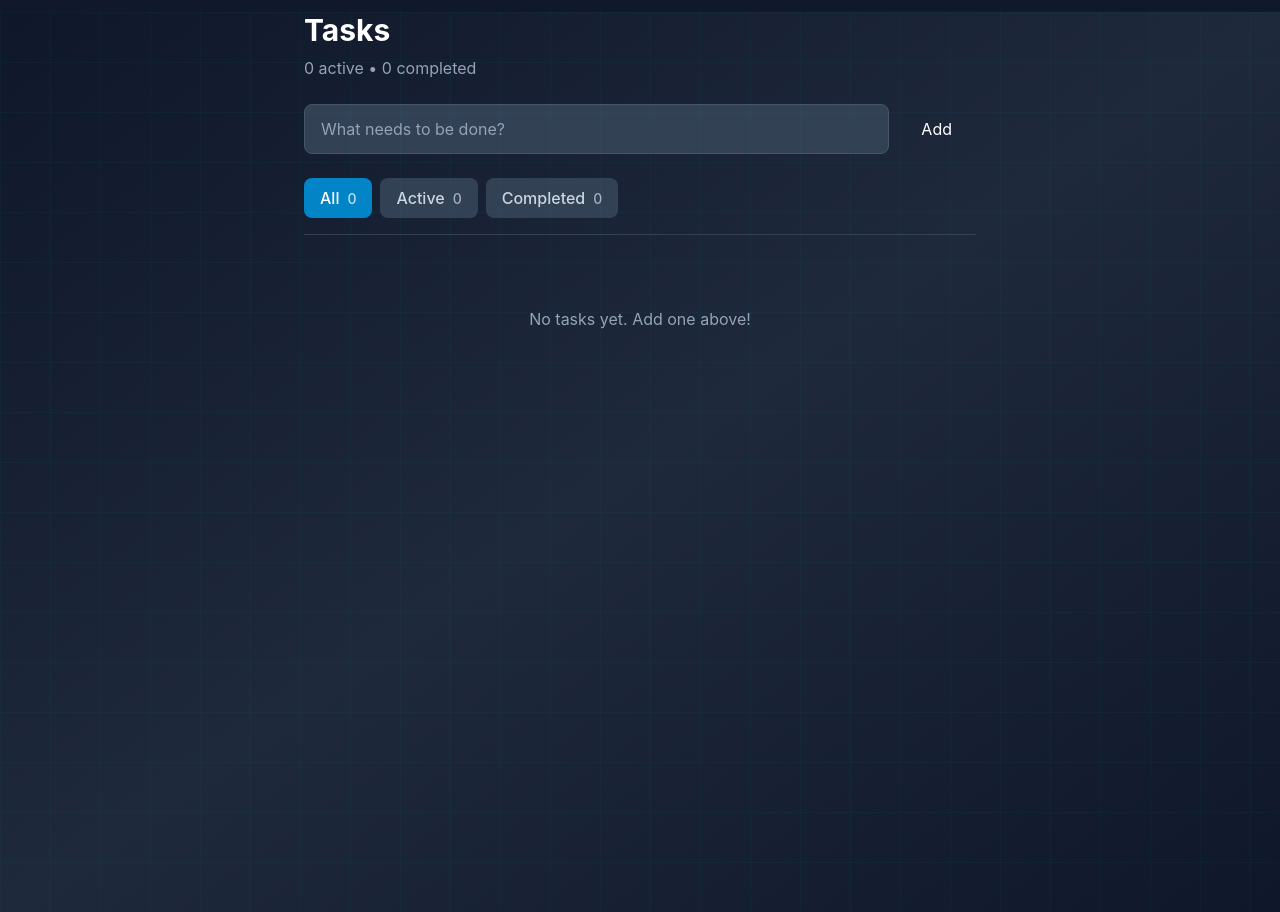
Scenario: TodoList › filters todos
Type "Active task" into the field with placeholder "What needs to be done?".
click(597, 129); type("Active task")  # box x1=304 y1=104 x2=889 y2=154
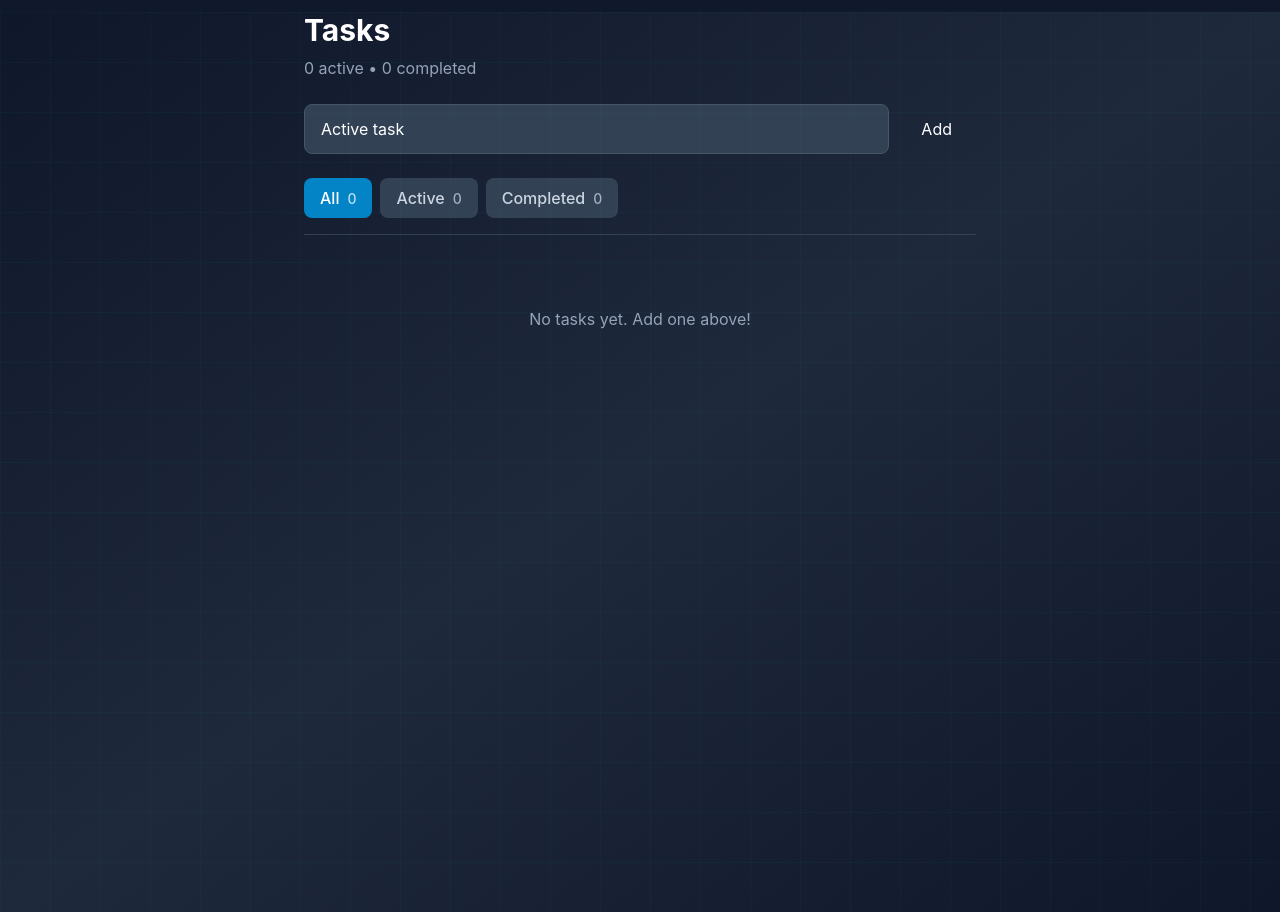
Click the button "Add".
click(937, 129)  # box x1=897 y1=104 x2=976 y2=154
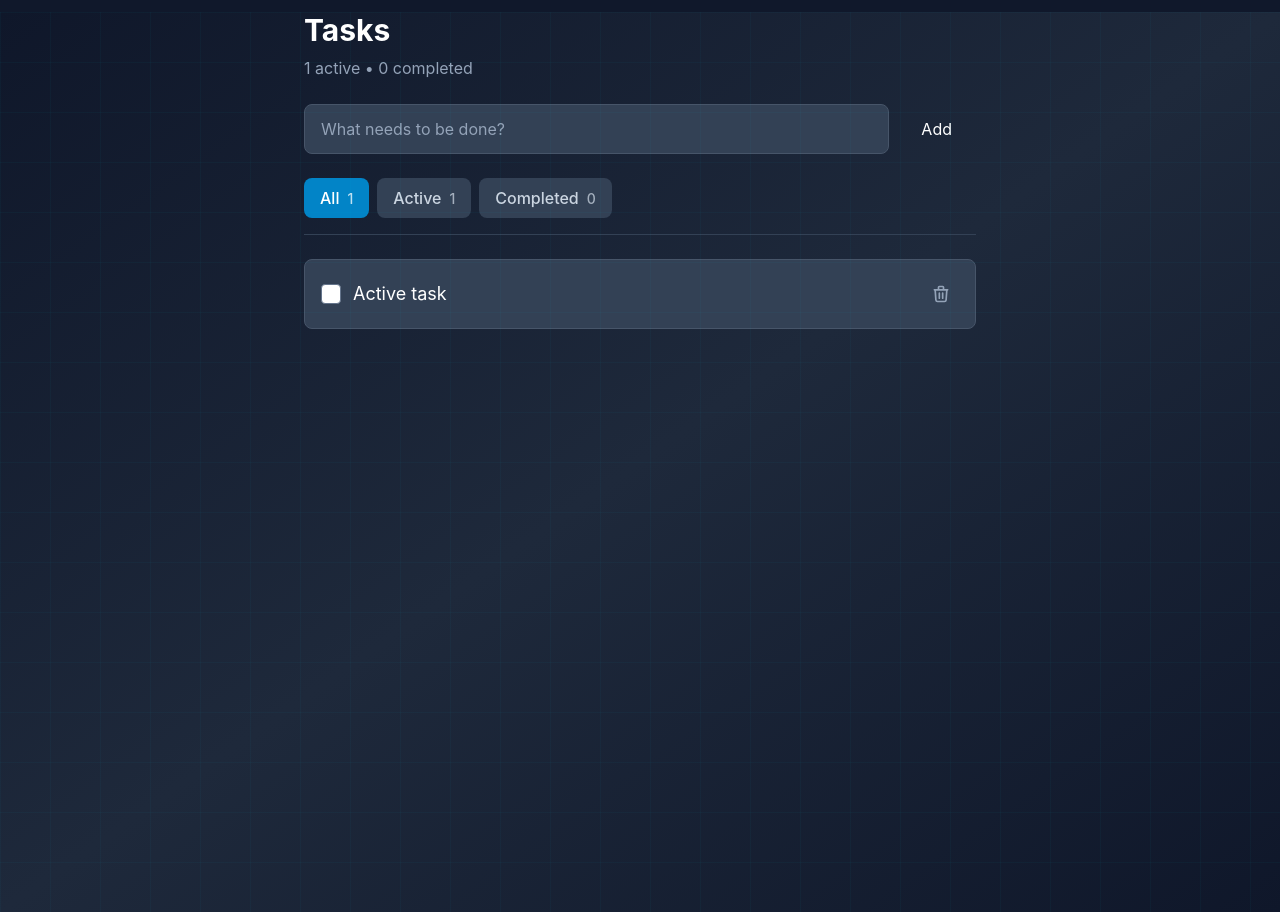
Type "Completed task" into the field with placeholder "What needs to be done?".
click(597, 129); type("Completed task")  # box x1=304 y1=104 x2=889 y2=154
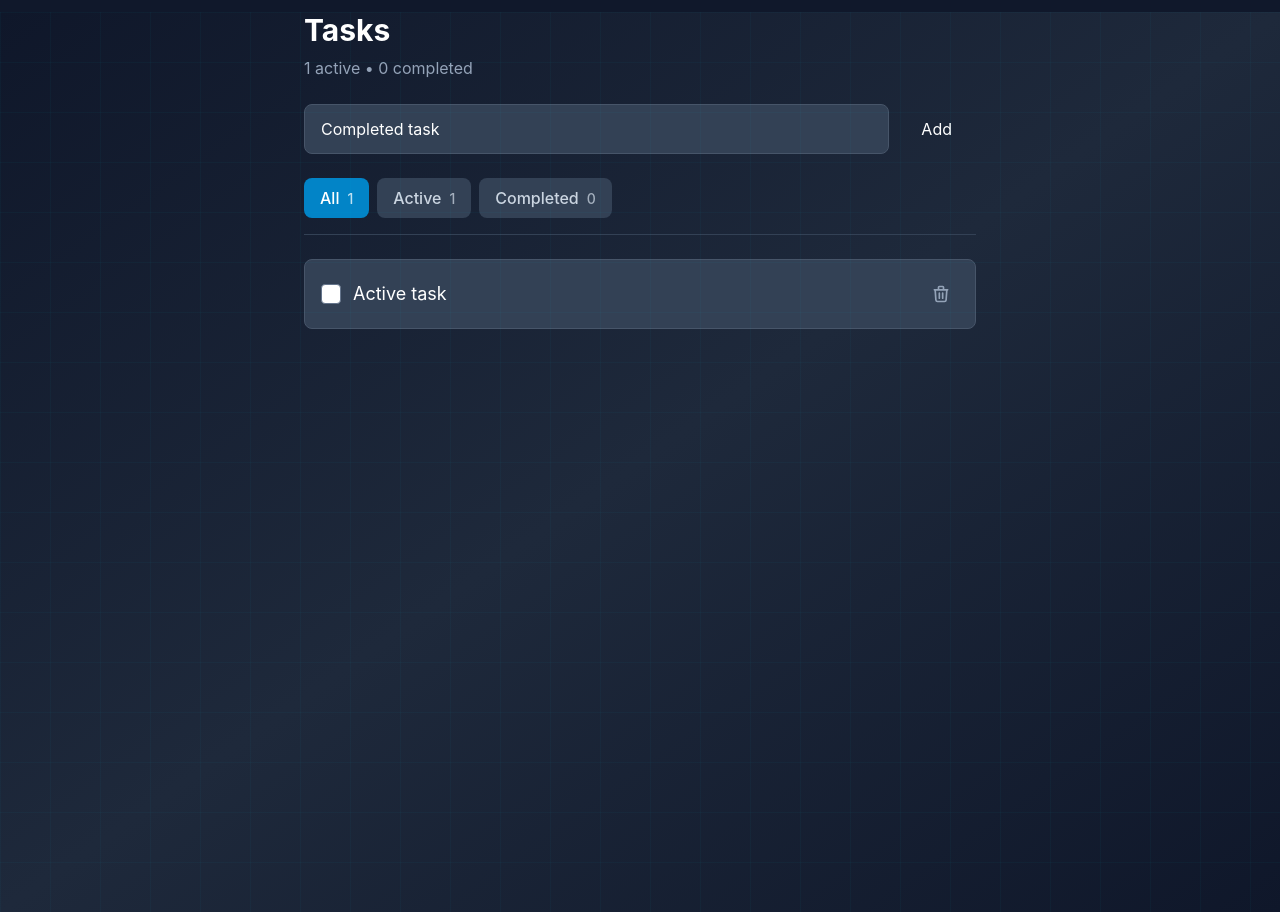
Click the button "Add".
click(937, 129)  # box x1=897 y1=104 x2=976 y2=154
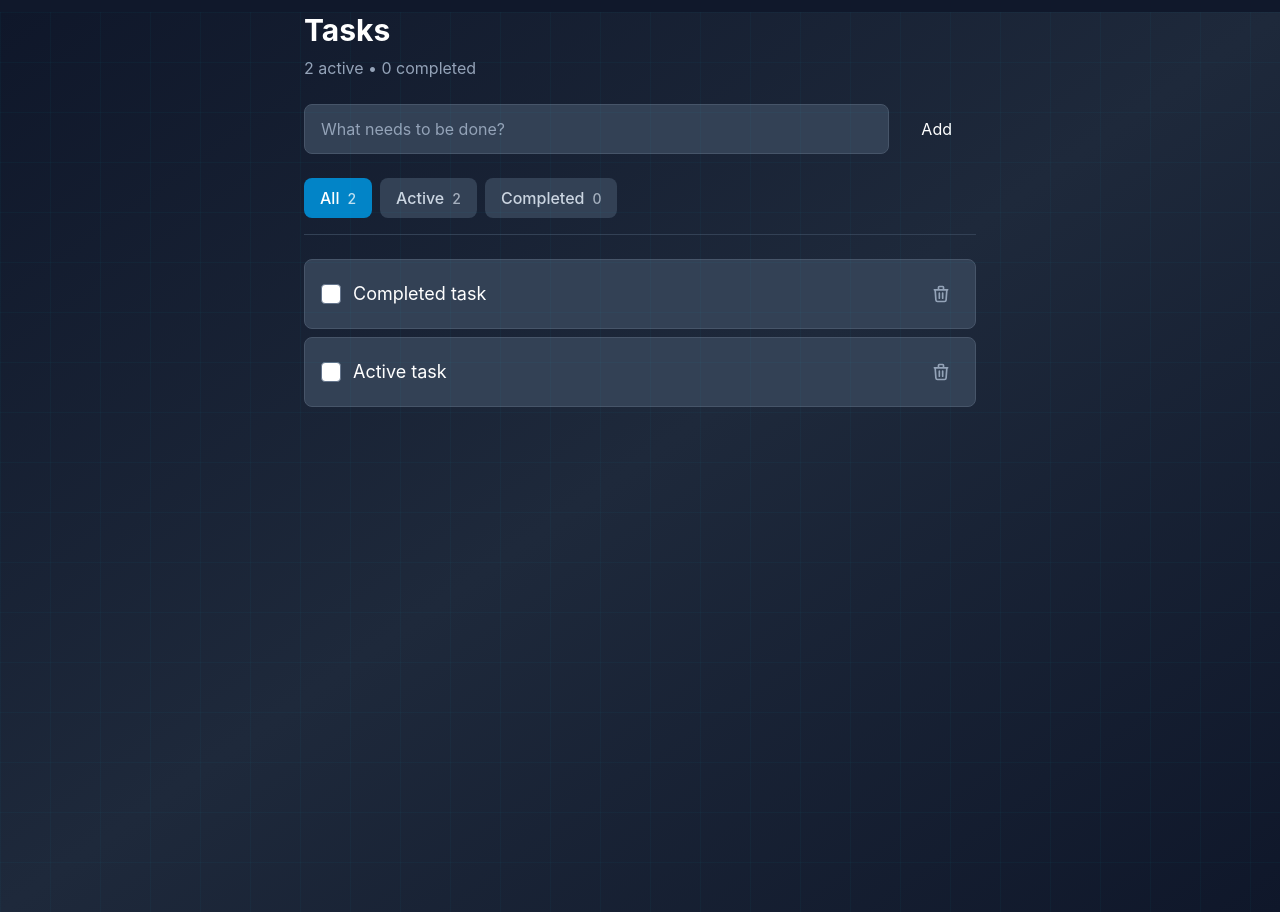
Complete the second one (index 0 since they're added to the beginning)
Click the checkbox named "Mark \"Completed task\" as complete".
click(331, 294)  # box x1=321 y1=284 x2=341 y2=304
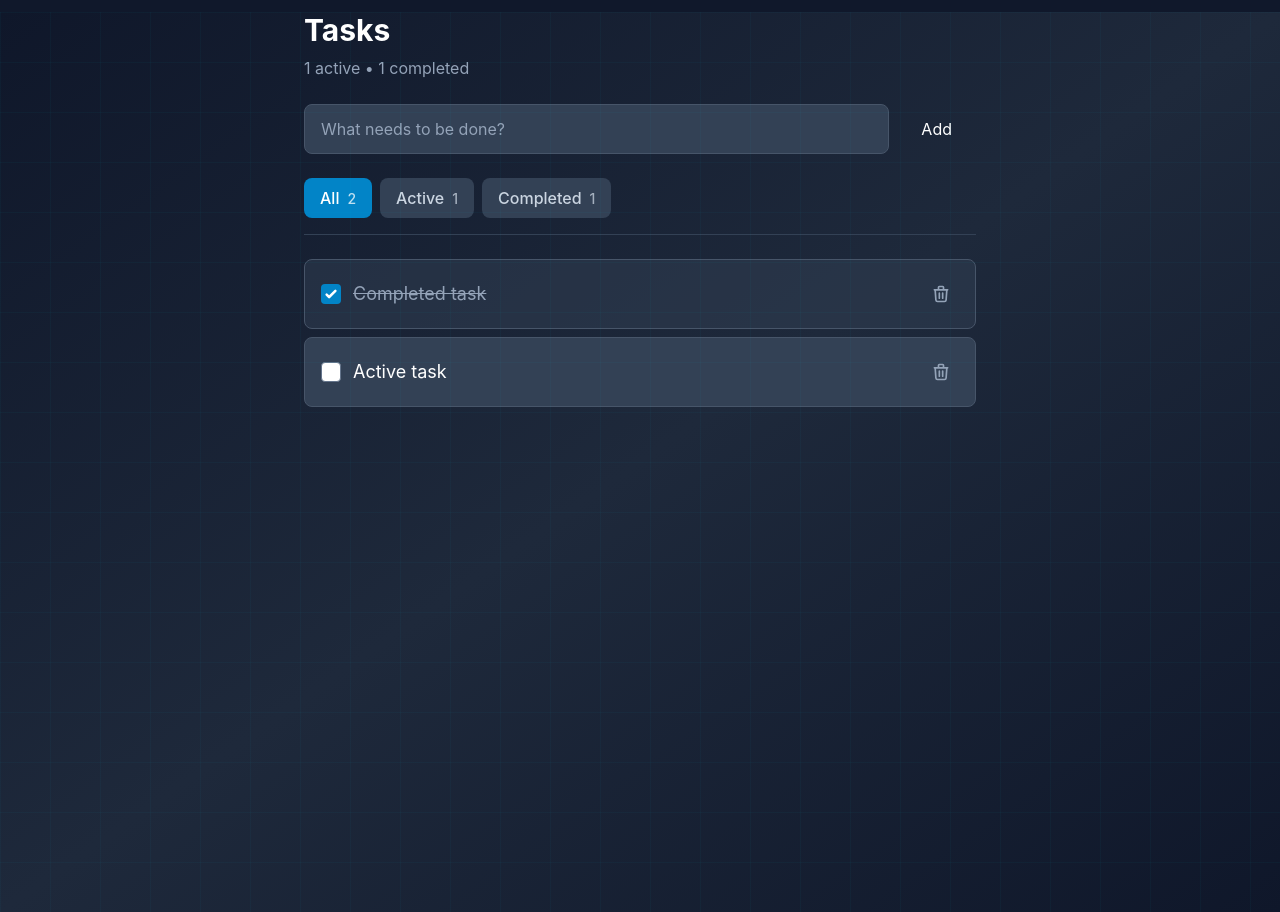
Filter to active - should show only Active task
Click the button named "show active tasks".
click(427, 198)  # box x1=380 y1=178 x2=474 y2=218
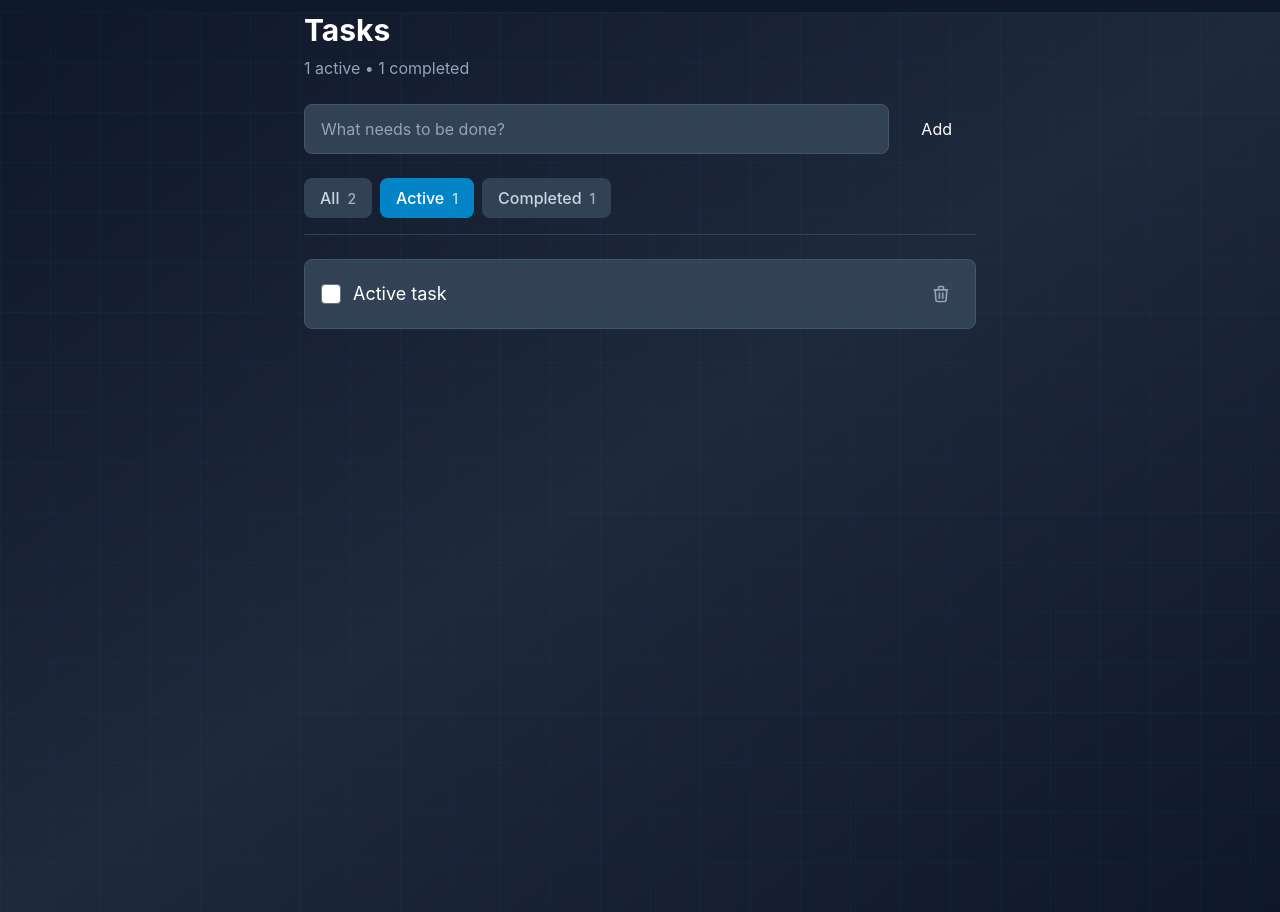
Check: the text "Active task" is shown, box x1=353 y1=283 x2=447 y2=304
Check: the text "Completed task" is gone
